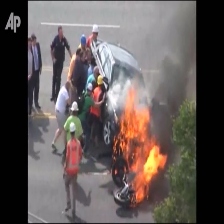fire_h: (119, 85, 167, 206)
fire_l: (113, 136, 118, 154), (110, 168, 117, 173), (123, 165, 127, 173)
